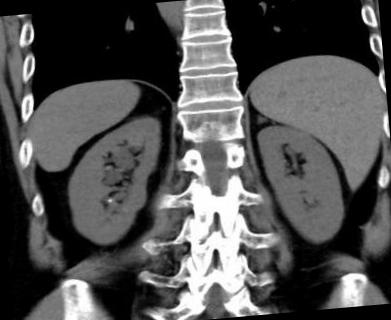Tas_Var: (107, 198, 114, 205)
